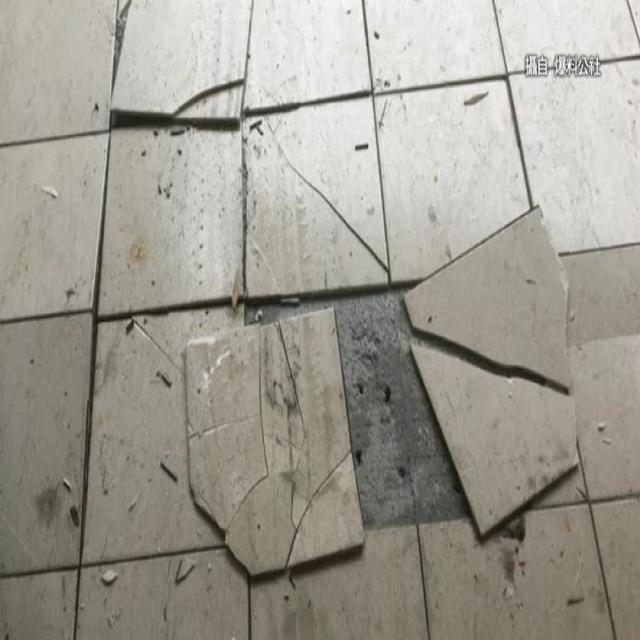Crack: (267, 123, 388, 276), (411, 327, 570, 398), (226, 331, 270, 535), (284, 444, 352, 569), (278, 321, 308, 439), (131, 316, 184, 377), (173, 79, 244, 119)
tile: (323, 279, 473, 536), (111, 0, 131, 102)
